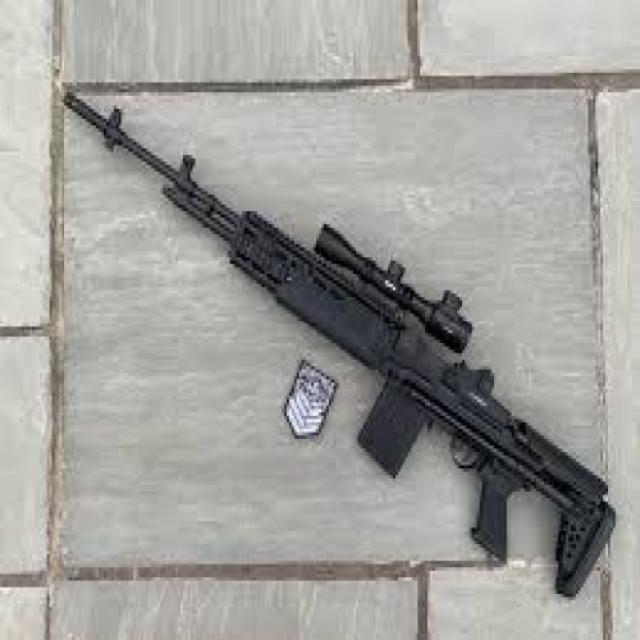Gun: (59, 85, 623, 587)
